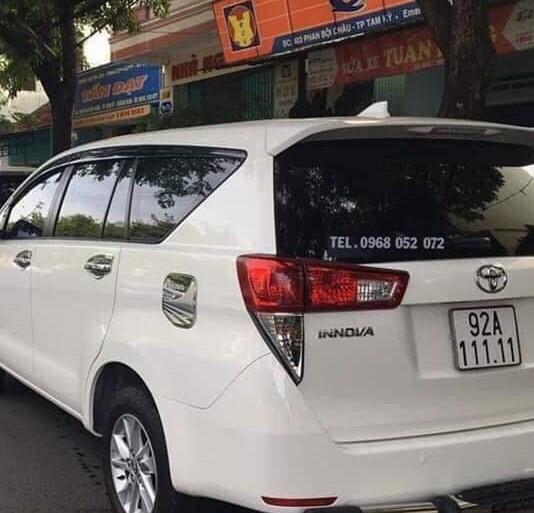numplate: (446, 303, 523, 373)
